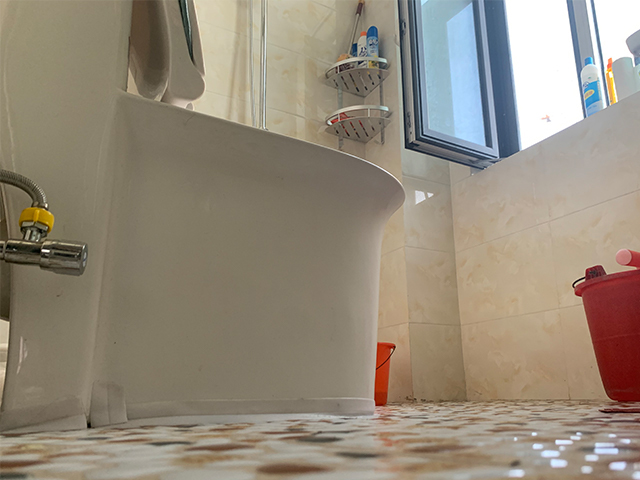closestool: (1, 1, 408, 438)
